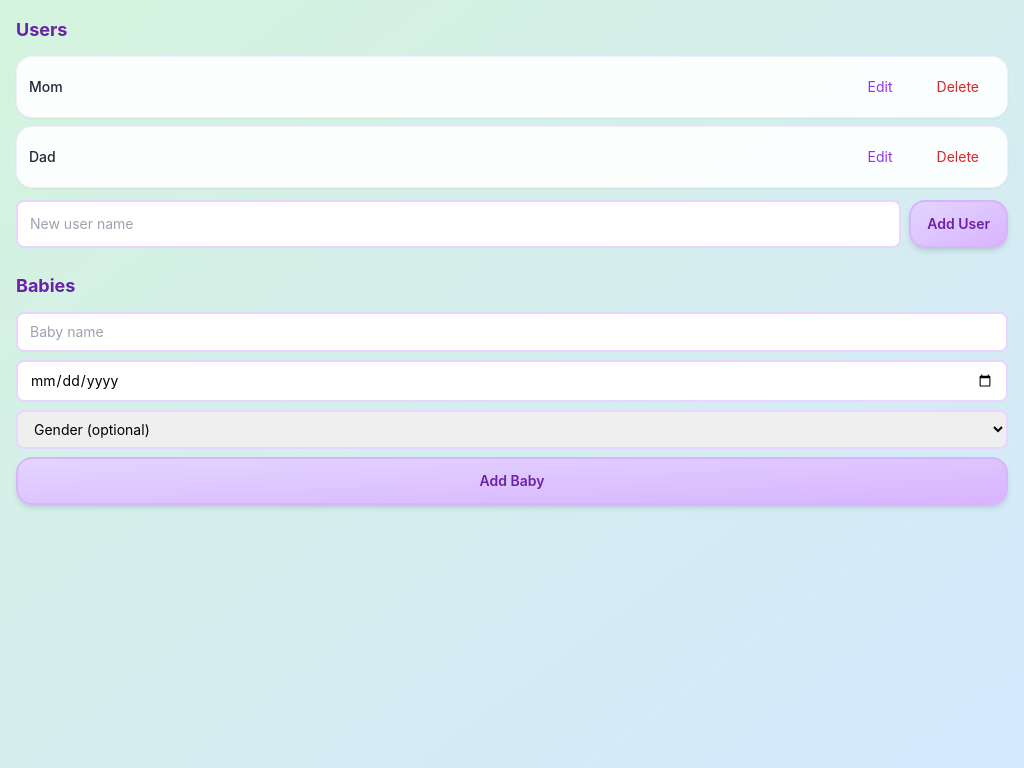
Test: Admin — edit user › opens edit modal with user name pre-filled when Edit is clicked
Click the button with aria-label "Edit Mom" at (880, 87), box left=852, top=69, right=909, bottom=105
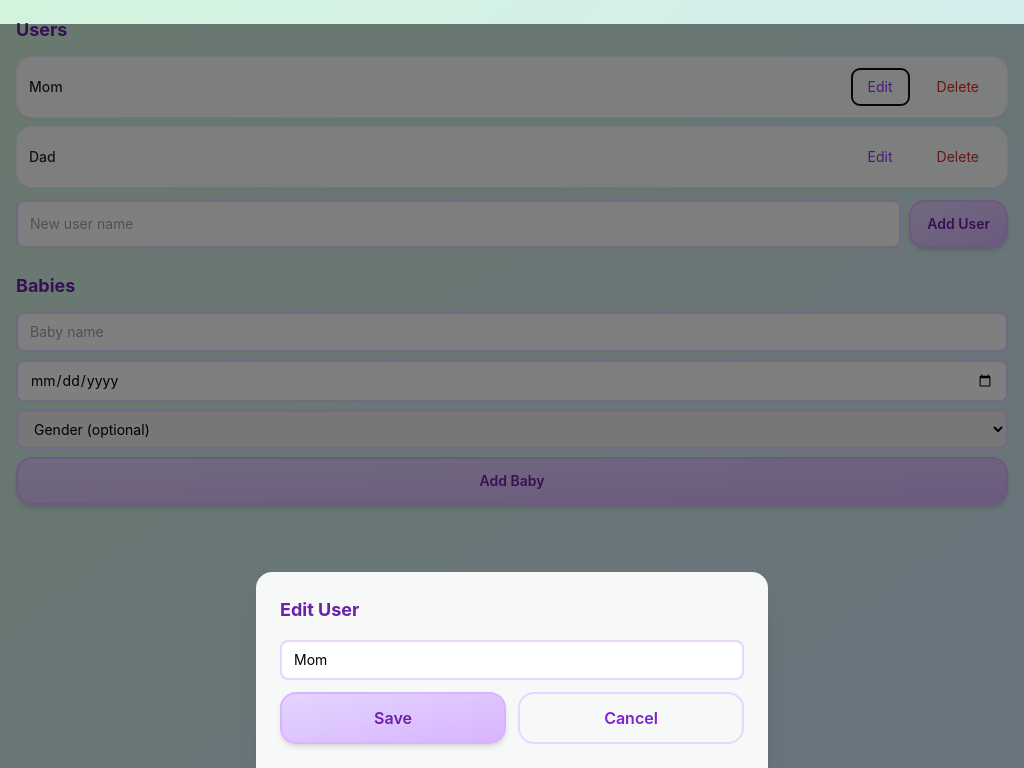
expect the heading "Edit User" is shown: met, box left=280, top=599, right=359, bottom=620
expect the field showing "Mom" is shown: met, box left=280, top=640, right=744, bottom=680
